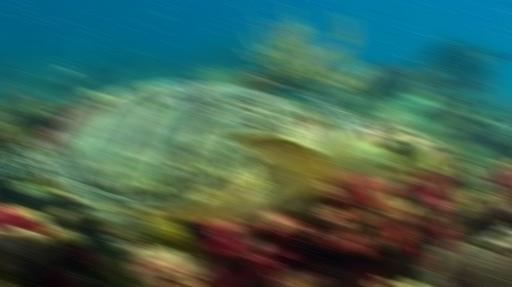Fish: (0, 82, 448, 221)
